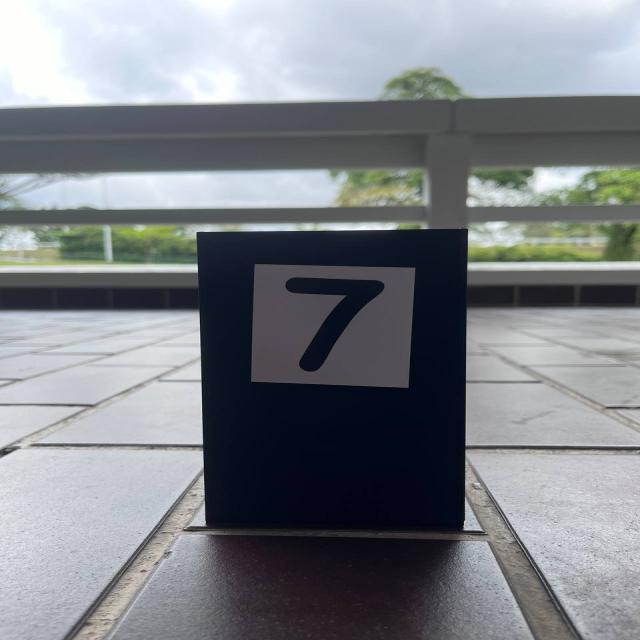seven_id17: (254, 264, 414, 389)
